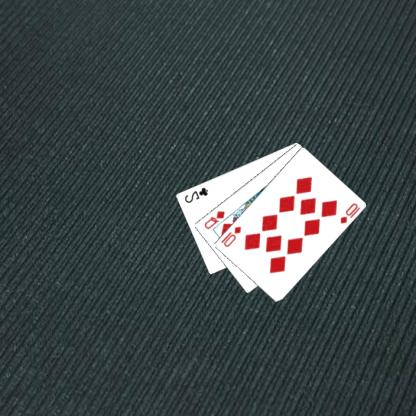10D: (220, 224, 244, 248), (340, 200, 364, 224)
2C: (183, 184, 211, 204)
QD: (204, 208, 228, 230)
